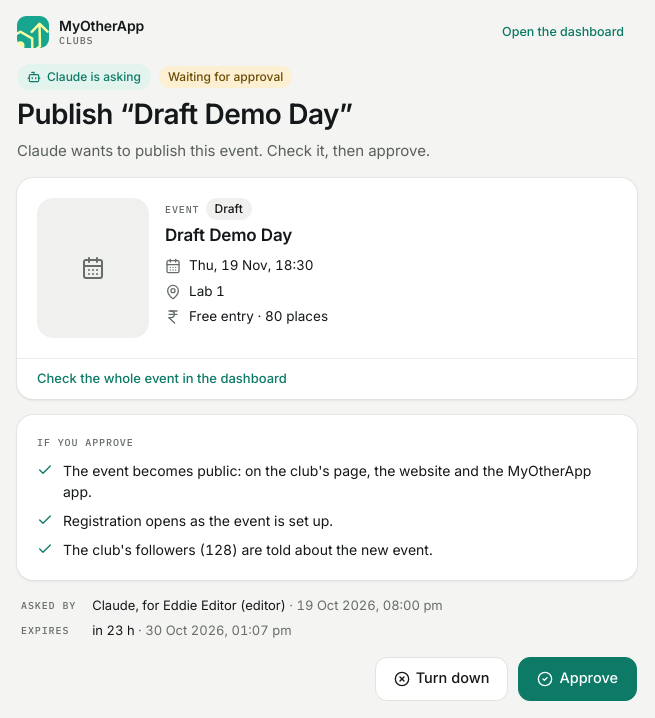
a request waiting for approval › approves, then says it is done and where to see it
Step 1. Click the button "Approve" → [578, 679], box [518,657,637,701]
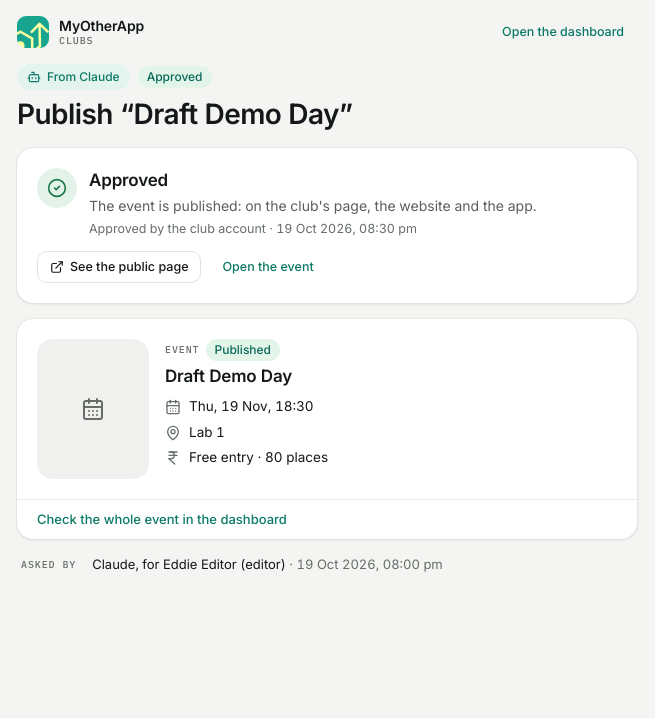
Now the heading "Approved" is shown, box [89,170,168,190]
Now the element named "What happened" shows "The event is published: on the club's page, the website and the app.", box [89,197,536,214]
Now the element named "What happened" shows "Approved by the club account", box [17,148,637,303]
